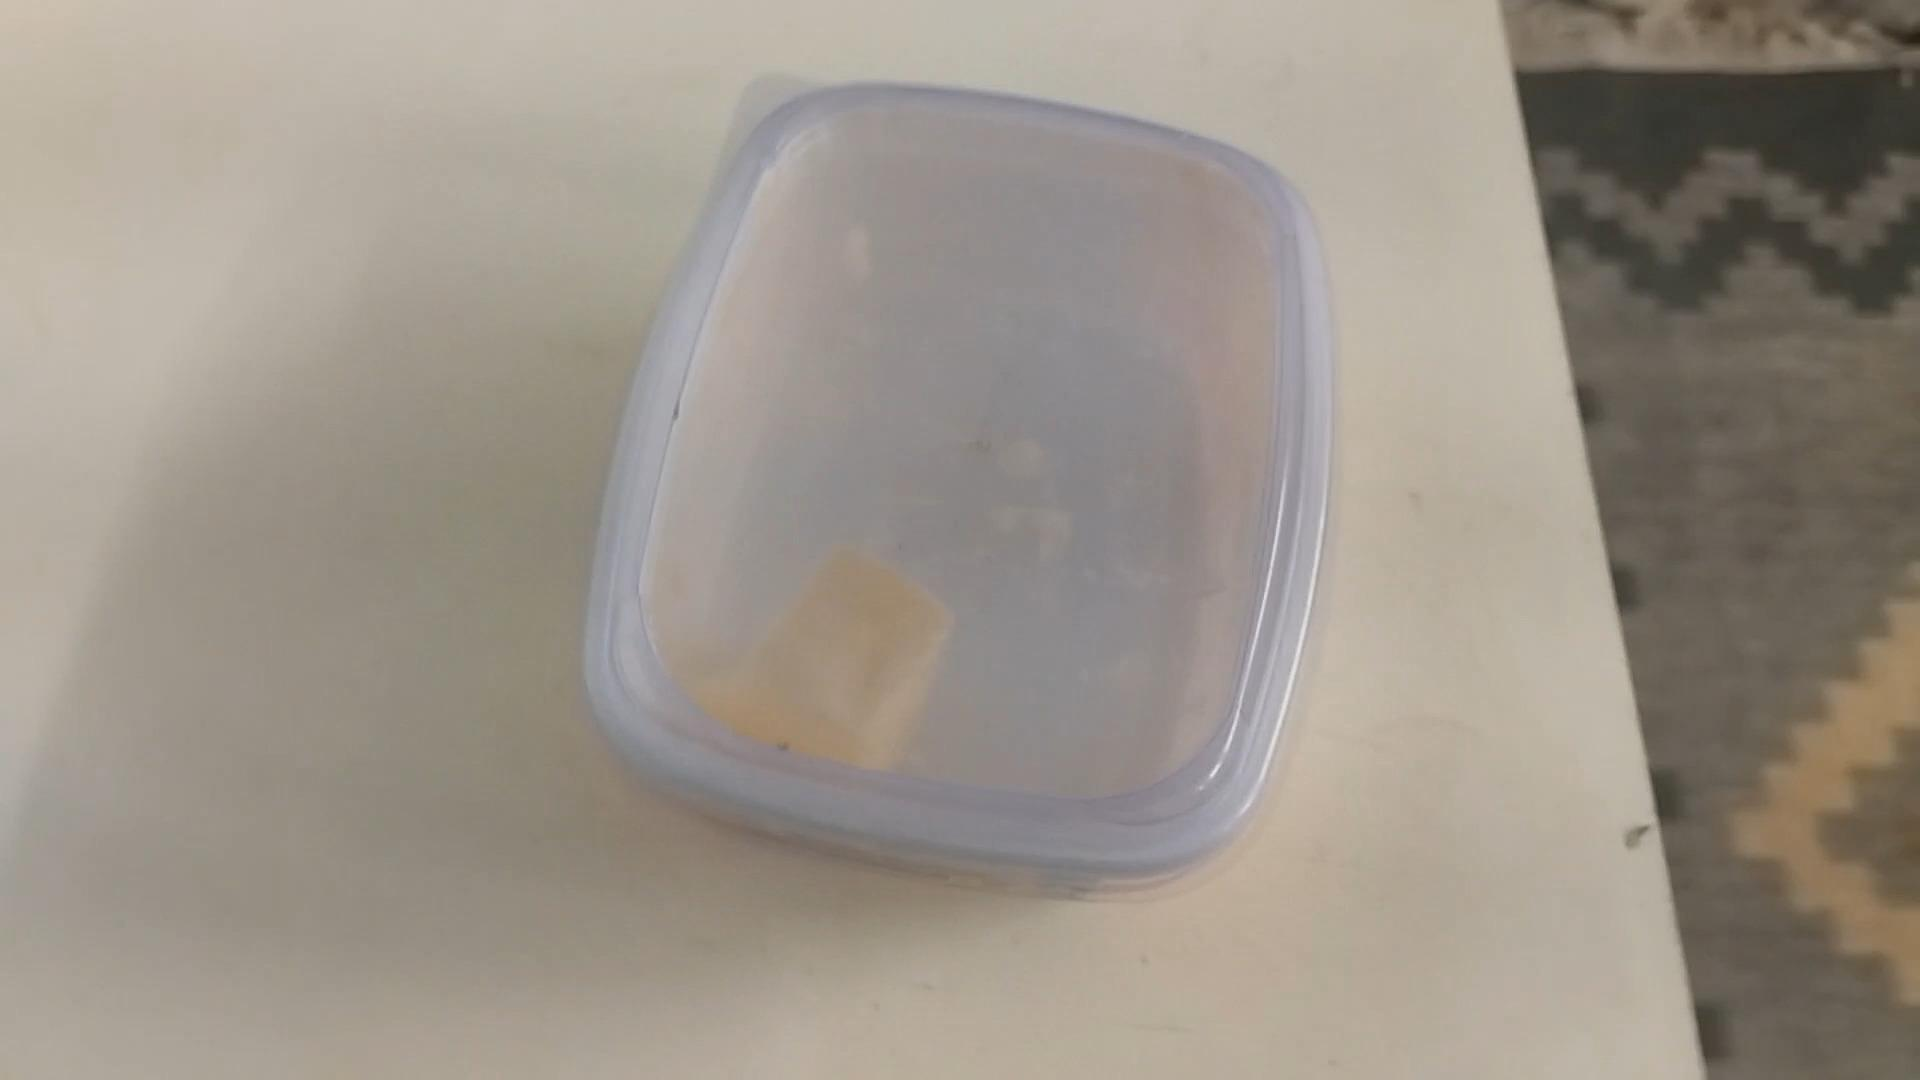butter: (582, 80, 1319, 898)
